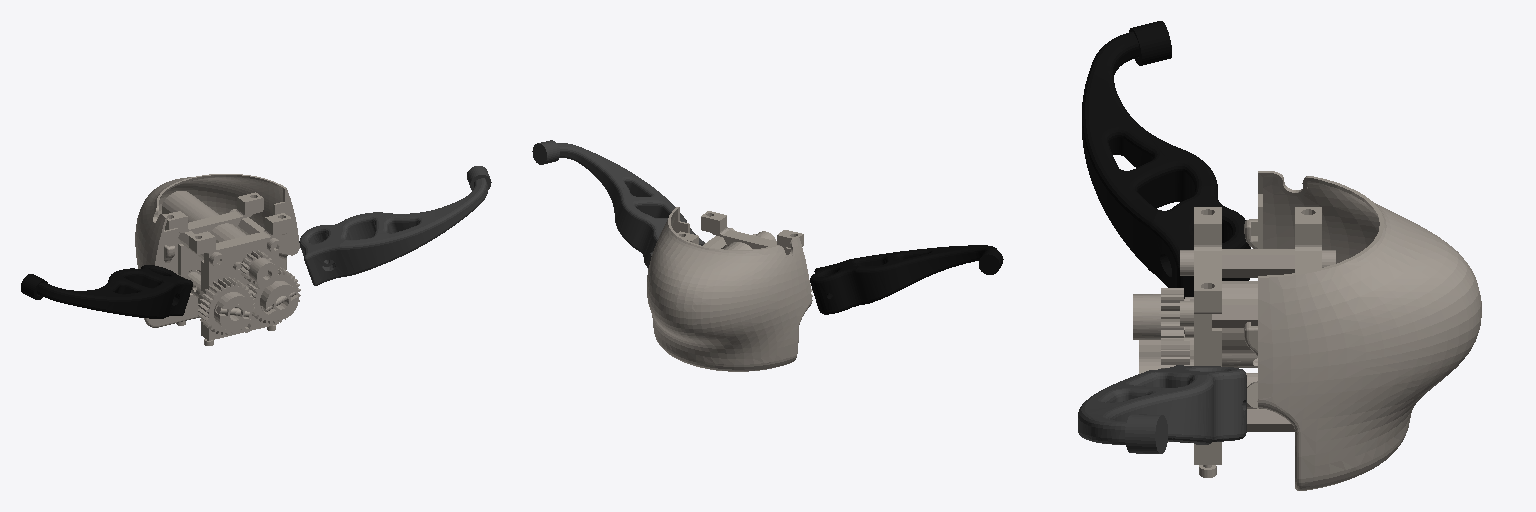
robot.urdf — GreiferZF_2016:
<?xml version="1.0" encoding="utf-8"?>
<!-- This URDF was automatically created by SolidWorks to URDF Exporter! Originally created by [author] ([email redacted]) 
     Commit Version: 1.6.0-4-g7f85cfe  Build Version: 1.6.7995.38578
     For more information, please see http://wiki.ros.org/sw_urdf_exporter -->
<robot
  name="GreiferZF_2016">
  <link
    name="base_link">
    <inertial>
      <origin
        xyz="0.000716667951646768 -0.0220467546898447 -0.00525012125053753"
        rpy="0 0 0" />
      <mass
        value="0.0420250780697651" />
      <inertia
        ixx="7.03835468352771E-06"
        ixy="4.54494835168959E-08"
        ixz="-1.34095035418891E-08"
        iyy="8.07960101558684E-06"
        iyz="1.78358247621345E-07"
        izz="9.6532965389247E-06" />
    </inertial>
    <visual>
      <origin
        xyz="0 0 0"
        rpy="0 0 0" />
      <geometry>
        <mesh
          filename="package://mover6_gripper/meshes/base_link.STL" />
      </geometry>
      <material
        name="">
        <color
          rgba="0.647058823529412 0.619607843137255 0.588235294117647 1" />
      </material>
    </visual>
    <collision>
      <origin
        xyz="0 0 0"
        rpy="0 0 0" />
      <geometry>
        <mesh
          filename="package://mover6_gripper/meshes/base_link.STL" />
      </geometry>
    </collision>
  </link>
  <link
    name="gripper_a">
    <inertial>
      <origin
        xyz="-2.63929004545528E-05 -0.00428504497802679 0.0208602404512305"
        rpy="0 0 0" />
      <mass
        value="0.00998043833114313" />
      <inertia
        ixx="3.94265701566114E-06"
        ixy="-1.29448842700966E-11"
        ixz="2.24074768068578E-11"
        iyy="3.66921985815796E-06"
        iyz="1.92289374934855E-07"
        izz="5.30574201923679E-07" />
    </inertial>
    <visual>
      <origin
        xyz="0 0 0"
        rpy="0 0 0" />
      <geometry>
        <mesh
          filename="package://mover6_gripper/meshes/gripper_a.STL" />
      </geometry>
      <material
        name="">
        <color
          rgba="0.101960784313725 0.101960784313725 0.101960784313725 1" />
      </material>
    </visual>
    <collision>
      <origin
        xyz="0 0 0"
        rpy="0 0 0" />
      <geometry>
        <mesh
          filename="package://mover6_gripper/meshes/gripper_a.STL" />
      </geometry>
    </collision>
  </link>
  <joint
    name="joint_a"
    type="revolute">
    <origin
      xyz="-0.0105 0.00085663 -0.029246"
      rpy="-2.8041 0 1.5708" />
    <parent
      link="base_link" />
    <child
      link="gripper_a" />
    <axis
      xyz="1 0 0" />
    <limit
      lower="0"
      upper="0"
      effort="0"
      velocity="0" />
  </joint>
  <link
    name="gripper_b">
    <inertial>
      <origin
        xyz="8.09543524907481E-08 -0.00428504497802674 0.0208602404512296"
        rpy="0 0 0" />
      <mass
        value="0.00998043833114302" />
      <inertia
        ixx="3.94265701565814E-06"
        ixy="-1.29448837528763E-11"
        ixz="2.24074773134326E-11"
        iyy="3.66921985809367E-06"
        iyz="1.92289374934843E-07"
        izz="5.30574201861358E-07" />
    </inertial>
    <visual>
      <origin
        xyz="0 0 0"
        rpy="0 0 0" />
      <geometry>
        <mesh
          filename="package://mover6_gripper/meshes/gripper_b.STL" />
      </geometry>
      <material
        name="">
        <color
          rgba="0.298039215686275 0.298039215686275 0.298039215686275 1" />
      </material>
    </visual>
    <collision>
      <origin
        xyz="0 0 0"
        rpy="0 0 0" />
      <geometry>
        <mesh
          filename="package://mover6_gripper/meshes/gripper_b.STL" />
      </geometry>
    </collision>
  </link>
  <joint
    name="joint_b"
    type="revolute">
    <origin
      xyz="0.0105 0 -0.029246"
      rpy="-2.8041 0 -1.5708" />
    <parent
      link="base_link" />
    <child
      link="gripper_b" />
    <axis
      xyz="1 0 0" />
    <limit
      lower="0"
      upper="0"
      effort="0"
      velocity="0" />
    <mimic
      joint="joint_a"
      multiplier="1"
      offset="0" />
  </joint>
</robot>

--- Render facts (derived) ---
3 views of the same robot in one strip: view 1: azimuth 30°, elevation 25°; view 2: azimuth 150°, elevation 25°; view 3: azimuth 270°, elevation 25° (orthographic).
Robot: GreiferZF_2016 — 3 links, 2 joints (2 revolute); root link base_link; default pose: every joint at zero.
Visible links, largest first — view 1: base_link, gripper_b, gripper_a; view 2: base_link, gripper_a, gripper_b; view 3: base_link, gripper_a, gripper_b.
Link boxes in pixels (x1,y1,x2,y2): base_link: (135,174,300,345); gripper_b: (299,166,491,285); gripper_a: (21,265,192,318); base_link: (647,207,812,371); gripper_a: (810,245,1003,314); gripper_b: (532,140,704,268); base_link: (1133,171,1481,490); gripper_a: (1082,21,1250,298); gripper_b: (1078,365,1246,453).
Size in the robot's own frame: 0.2124 by 0.0883 by 0.0548 metres.
Meshes: 3 distinct files referenced, 3 mesh visuals loaded (3 binary STL).